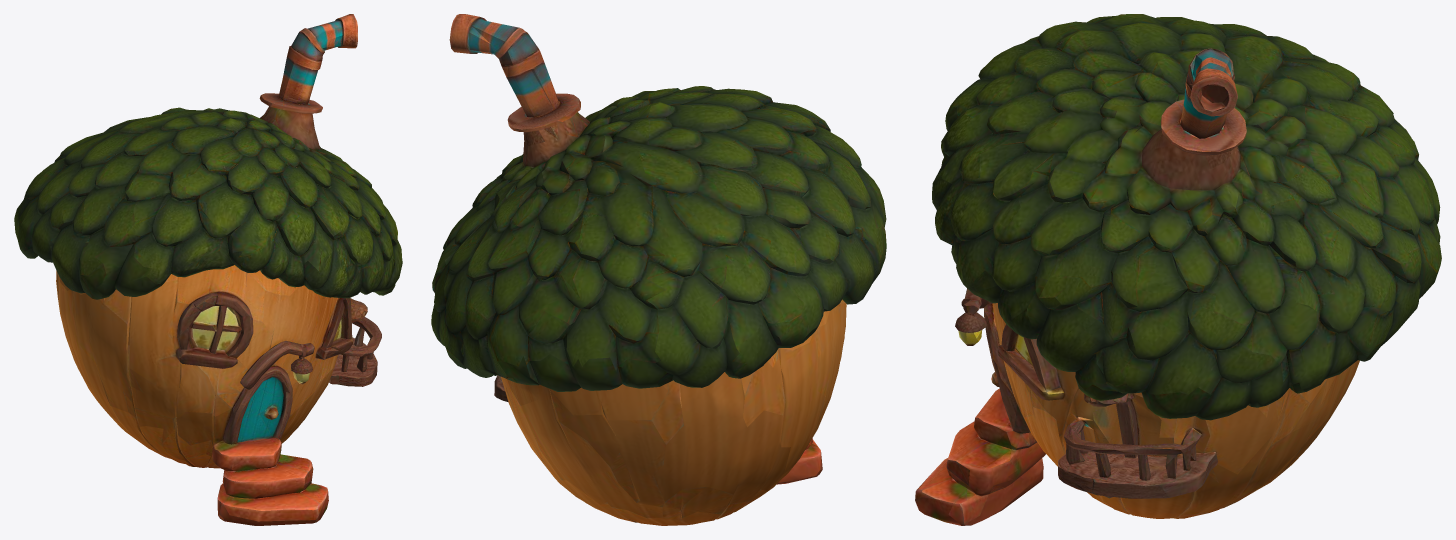
File: acorn-cottage.glb
3 renders of one model, left to right at view 1: azimuth 30°, elevation 25°; view 2: azimuth 150°, elevation 25°; view 3: azimuth 270°, elevation 25°, orthographic. The views are drawn at different scales.
Parts seen in each view (by area): view 1: output_unwrapped; view 2: output_unwrapped; view 3: output_unwrapped.
Boxes of the visible parts, bbox=[...] form: output_unwrapped: bbox=[14, 14, 402, 525]; output_unwrapped: bbox=[431, 14, 886, 525]; output_unwrapped: bbox=[915, 14, 1441, 525].
Bounding box in the file's own units: 1.66 × 1.9 × 1.7.
Materials: 1 (1 with a texture image).
